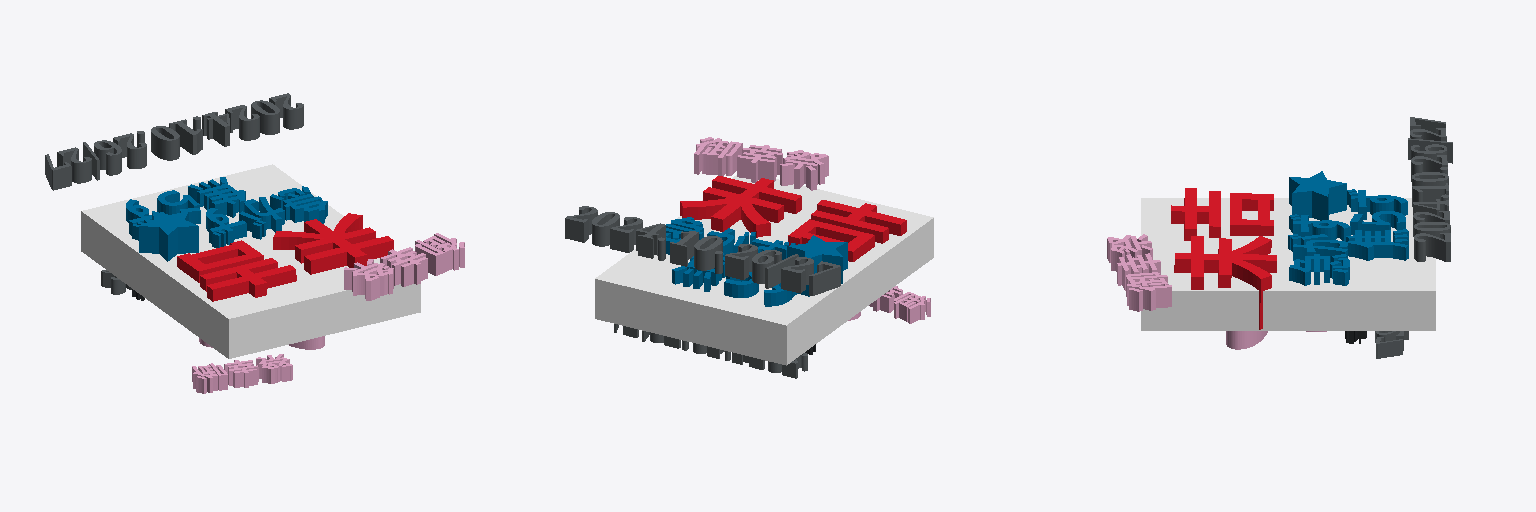
Rendered from tinker.obj.
3 views of the same model, side by side, from view 1: azimuth 30°, elevation 25°; view 2: azimuth 150°, elevation 25°; view 3: azimuth 270°, elevation 25° (orthographic).
Visible parts, largest first — view 1: obj_0; view 2: obj_0; view 3: obj_0.
Boxes of the visible parts, box(x1,y1,x2,y2) form: obj_0: box(45, 93, 464, 393); obj_0: box(565, 137, 933, 378); obj_0: box(1107, 117, 1452, 358).
Bounding box in the file's own units: 21.61 × 10.69 × 23.42.